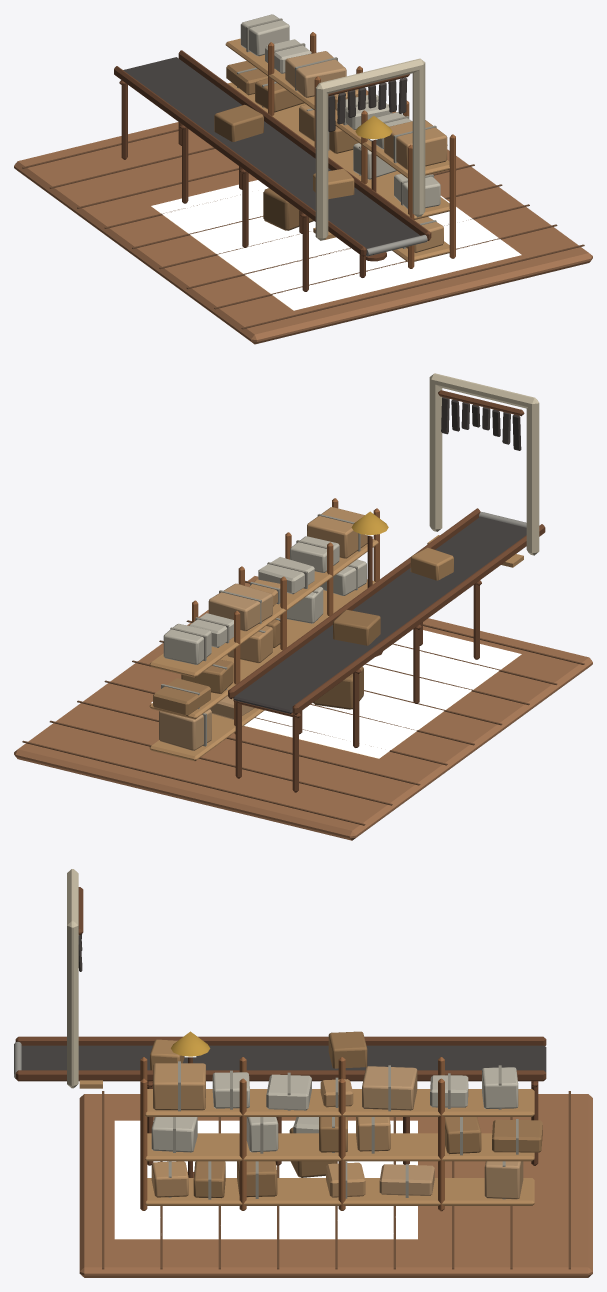
Rendered from conveyor_window.glb.
3 views of the same model, one above another, from view 1: azimuth 30°, elevation 25°; view 2: azimuth 150°, elevation 25°; view 3: azimuth 270°, elevation 25° (orthographic). The views are drawn at different scales.
Parts seen in each view (by area): view 1: body; view 2: body; view 3: body.
Boxes of the visible parts, bbox=[...] form: body: bbox=[14, 14, 592, 344]; body: bbox=[14, 373, 592, 840]; body: bbox=[14, 869, 592, 1277].
Bounding box in the file's own units: 3.6 × 2.52 × 4.96.
